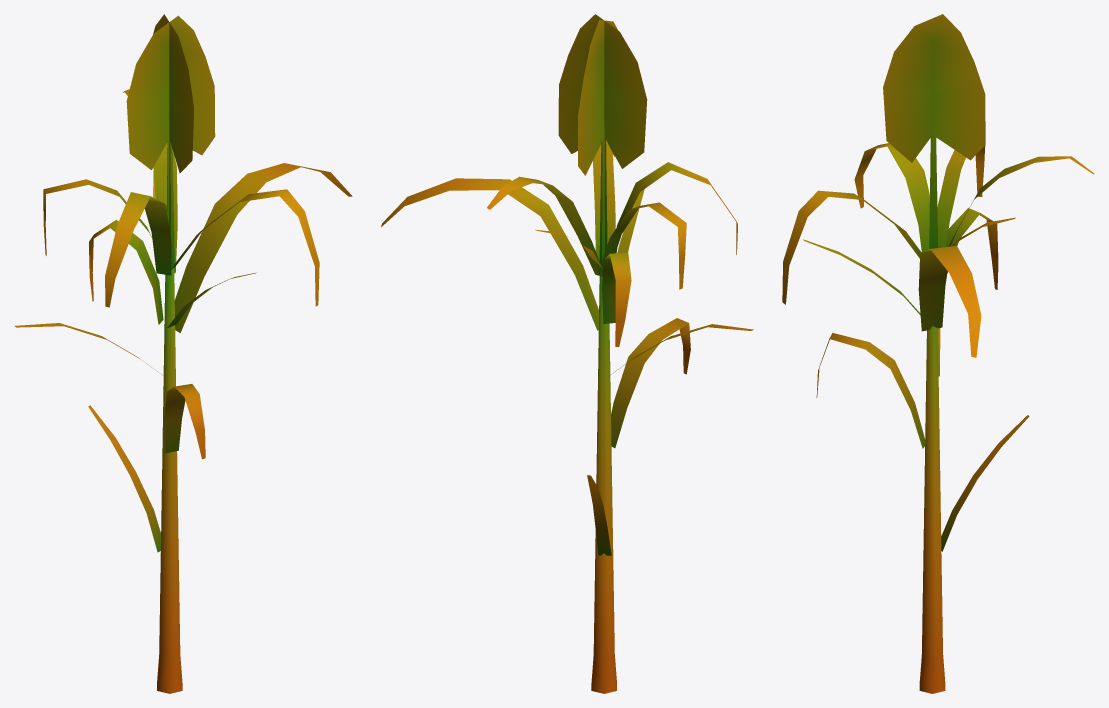
File: SM_SugarCanePlants_12.fbx
3 renders of one model, left to right at view 1: azimuth 30°, elevation 25°; view 2: azimuth 150°, elevation 25°; view 3: azimuth 270°, elevation 25°, orthographic.
Visible parts, largest first — view 1: SM_SugarCanePlants_12; view 2: SM_SugarCanePlants_12; view 3: SM_SugarCanePlants_12.
Part boxes in pixels (box(x1,y1,x2,y2)): SM_SugarCanePlants_12: box(15, 14, 352, 693); SM_SugarCanePlants_12: box(381, 14, 753, 693); SM_SugarCanePlants_12: box(782, 14, 1094, 693).
Bounding box in the file's own units: 0.9689 × 1.75 × 0.7367.
